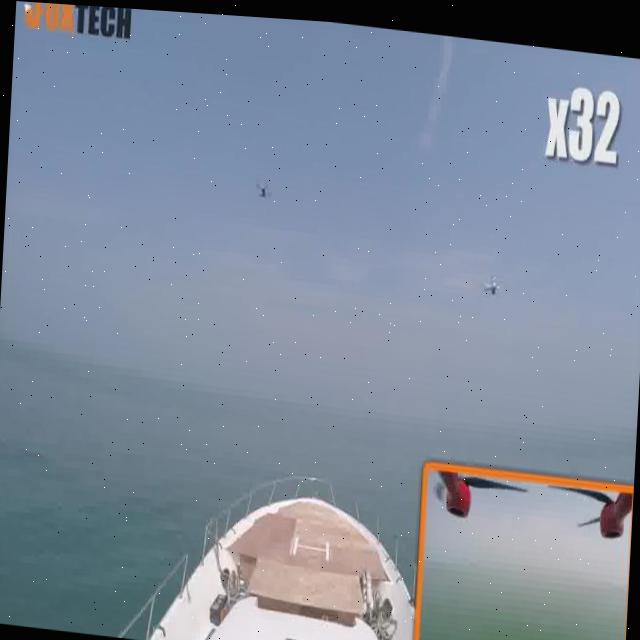drone: (244, 162, 280, 213), (476, 257, 509, 306)
